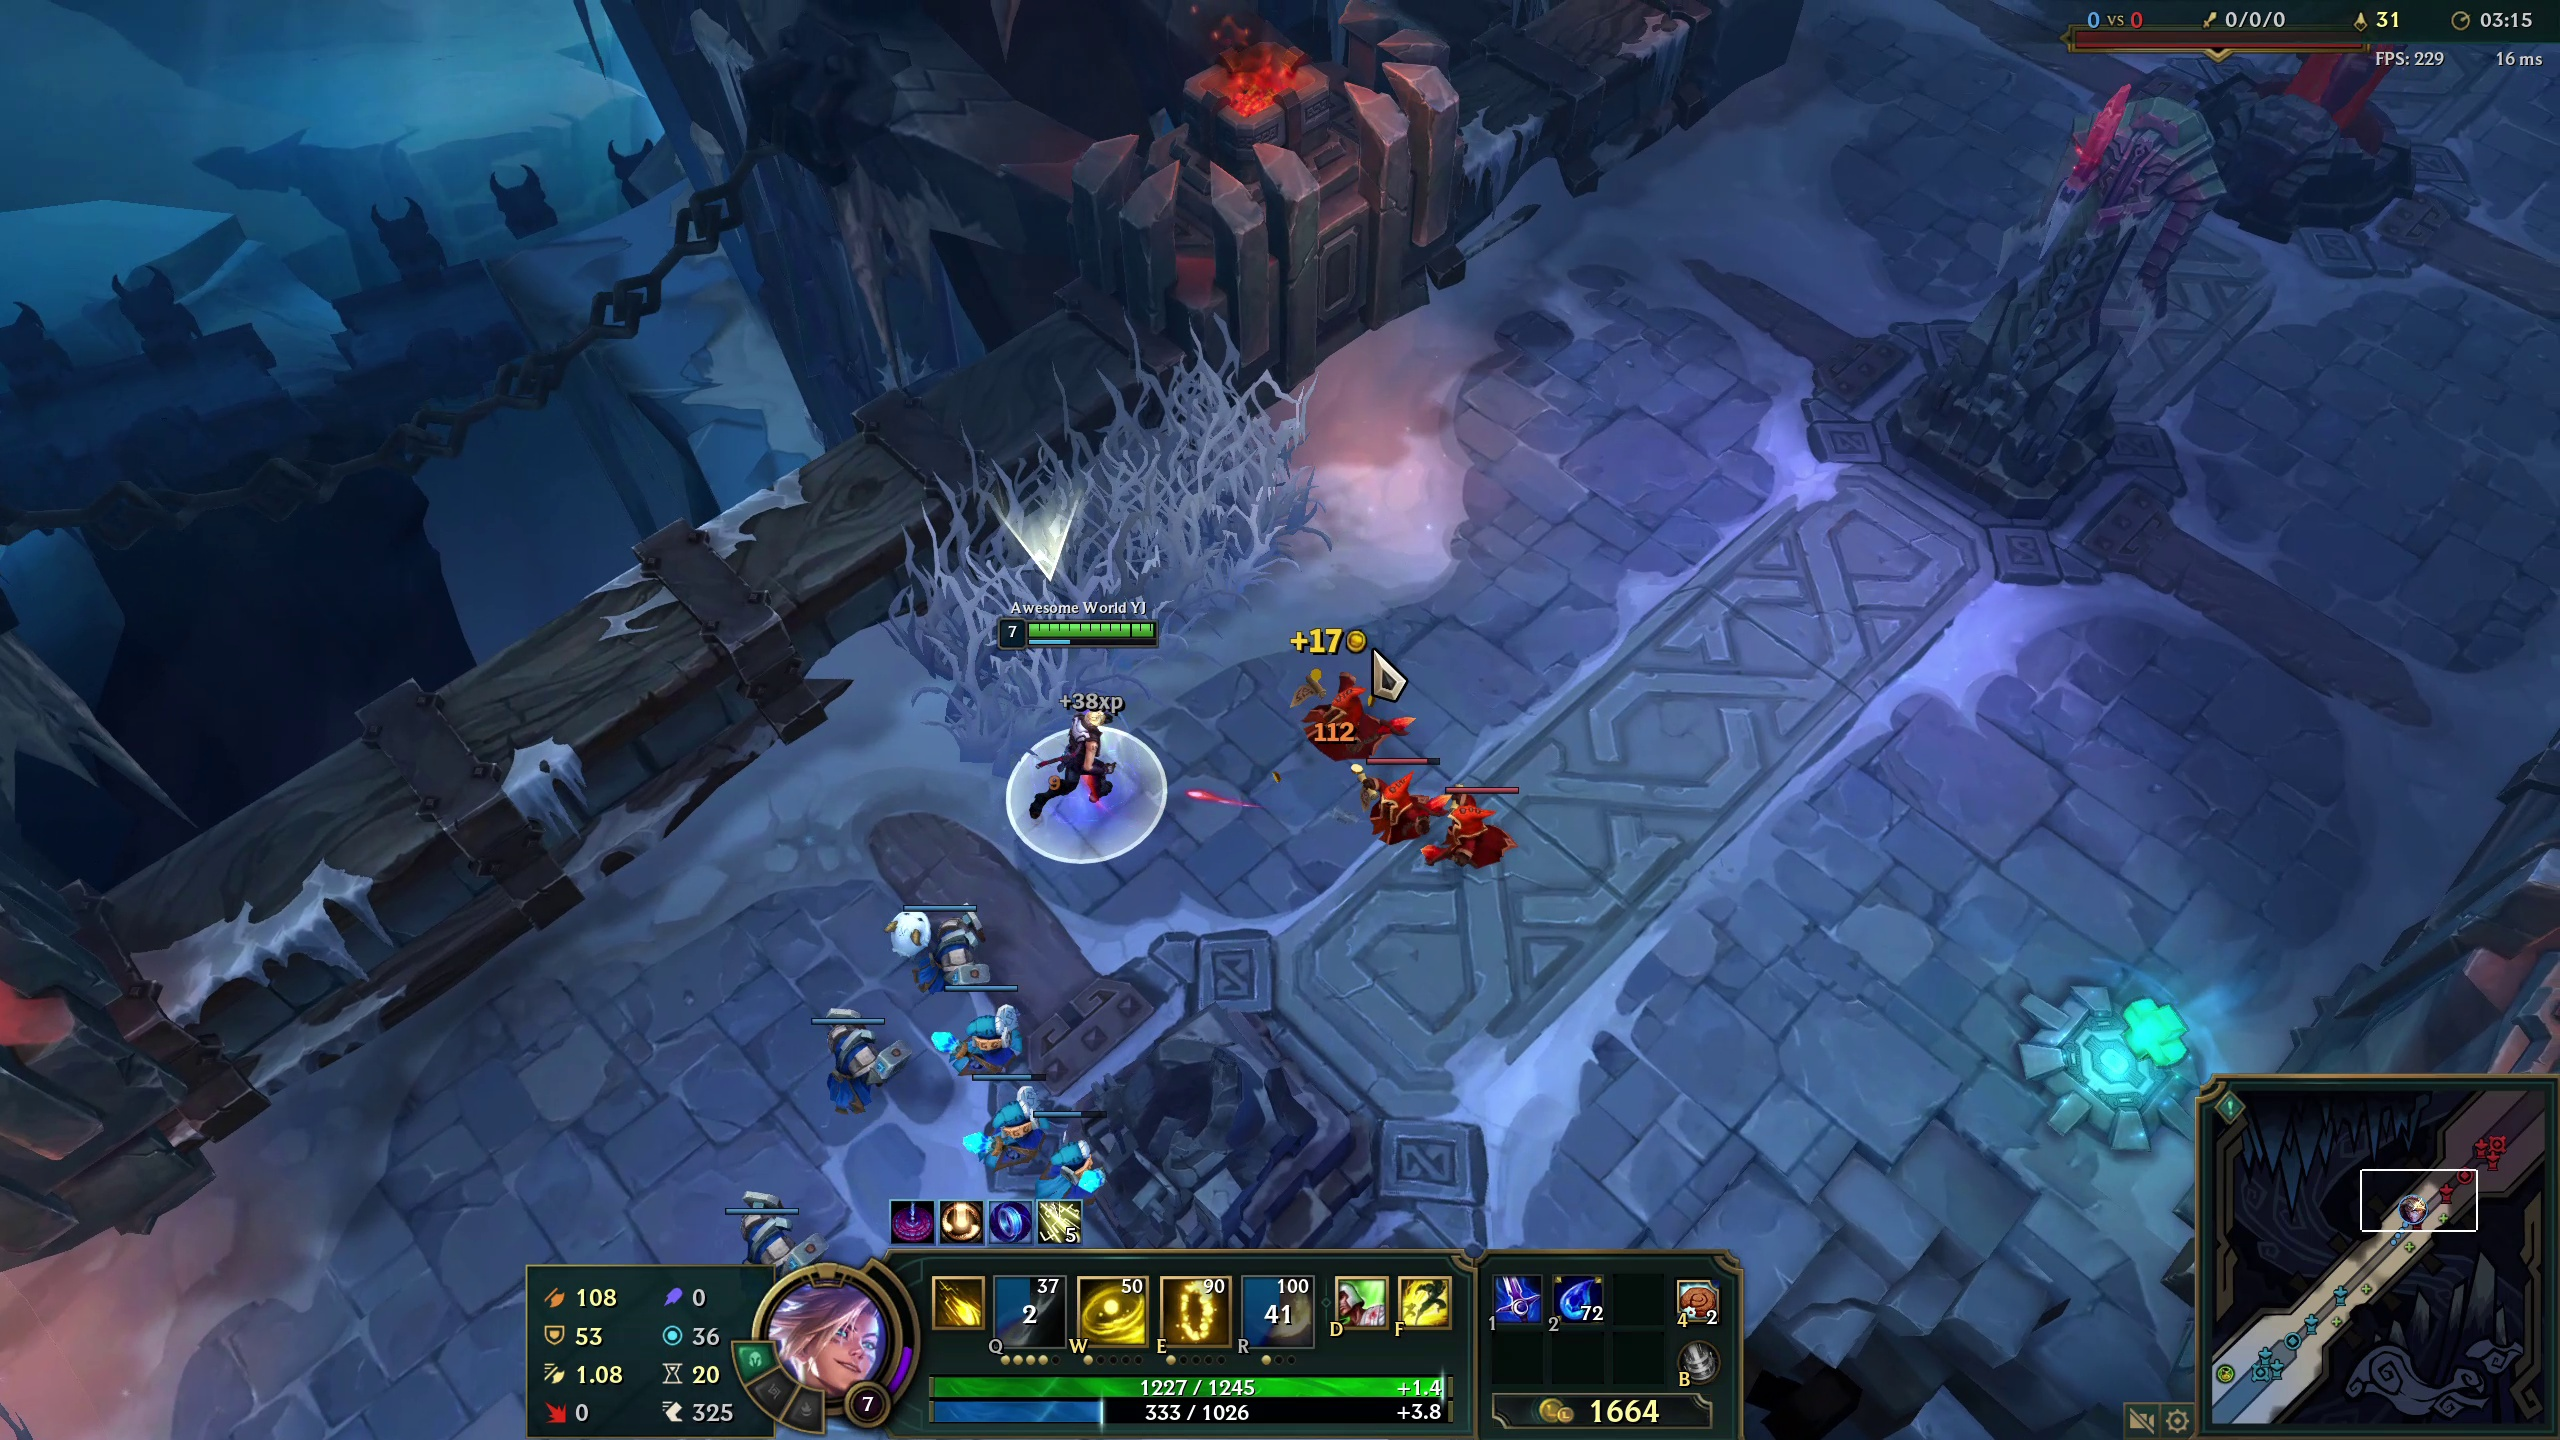EZ: (1029, 614, 1138, 849)
EnemyMinion: (1354, 758, 1436, 851), (1449, 777, 1531, 870)
Glass: (1041, 413, 1299, 622)
Inhibitor: (2207, 63, 2418, 227)
MyMinion: (934, 913, 1013, 990), (811, 1015, 890, 1092), (941, 995, 1020, 1073), (1036, 1109, 1115, 1187), (745, 1183, 825, 1261), (969, 1073, 1048, 1148)
Turret: (1909, 125, 2198, 542)
